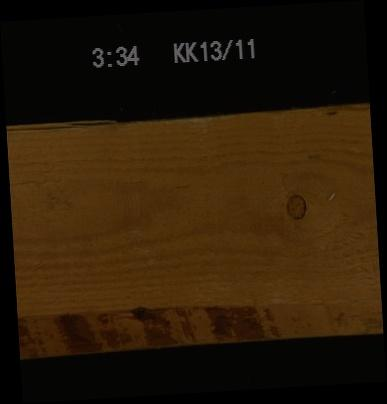dry_knot: (283, 192, 306, 220)
wave: (18, 298, 382, 346), (317, 103, 370, 119)
